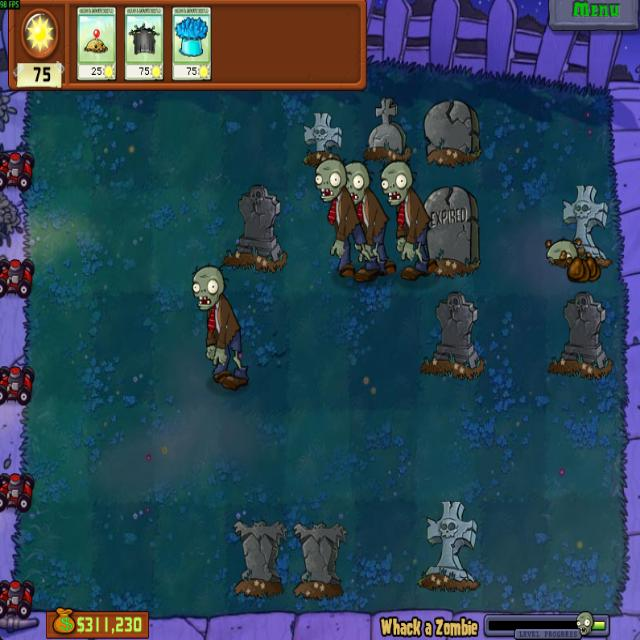grave: (416, 499, 480, 594), (548, 290, 612, 381), (222, 185, 288, 270), (420, 290, 483, 378), (421, 184, 478, 278), (230, 517, 287, 601), (293, 520, 347, 601), (422, 97, 480, 166), (562, 185, 608, 262), (362, 94, 412, 158), (301, 109, 343, 167)
gravebuster: (124, 7, 164, 82)
zombie: (379, 160, 414, 207), (191, 264, 226, 310), (313, 158, 347, 204), (342, 161, 372, 202), (544, 237, 576, 266)
